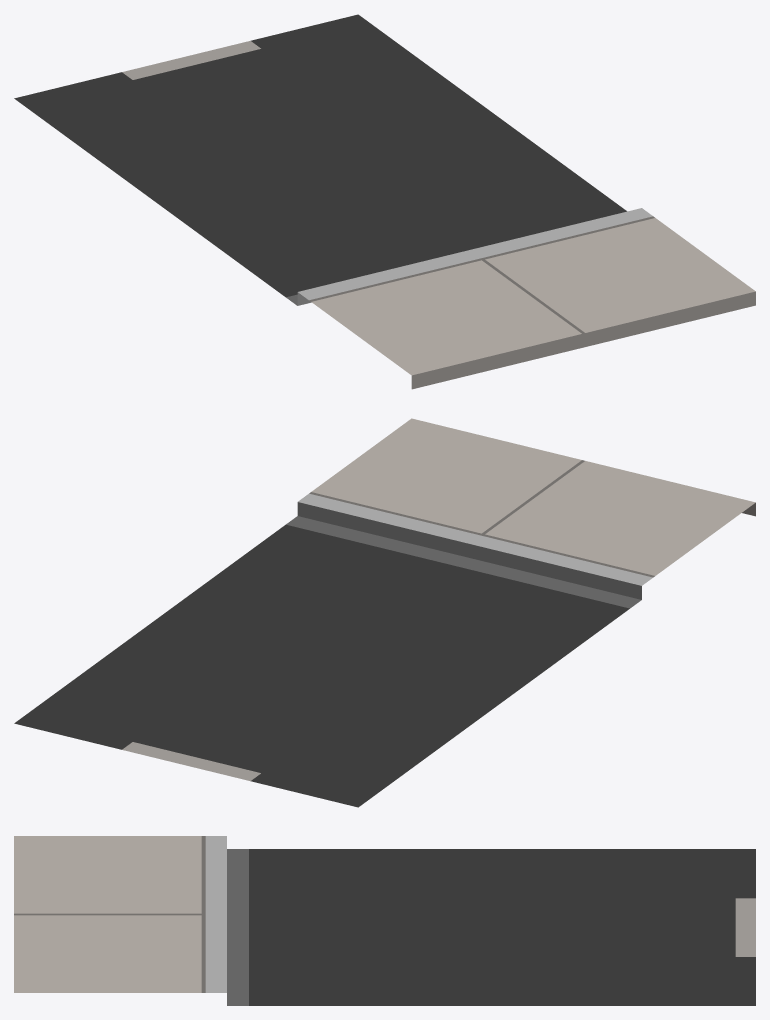
The model's file is SA_Env_Road_Straight_01.gltf.
The picture shows the model from 3 angles, top to bottom: view 1: azimuth 30°, elevation 25°; view 2: azimuth 150°, elevation 25°; view 3: azimuth 270°, elevation 25°; orthographic projection. The views are drawn at different scales.
Parts seen in each view (by area): view 1: SA_Env_Road_Straight_01; view 2: SA_Env_Road_Straight_01; view 3: SA_Env_Road_Straight_01.
Boxes of the visible parts, x1,y1,x2,y2 form: SA_Env_Road_Straight_01: (14,14,755,389); SA_Env_Road_Straight_01: (14,418,755,807); SA_Env_Road_Straight_01: (14,836,755,1005).
Bounding box in the file's own units: 5 × 0.1948 × 10.
1 material, 1 textured.
